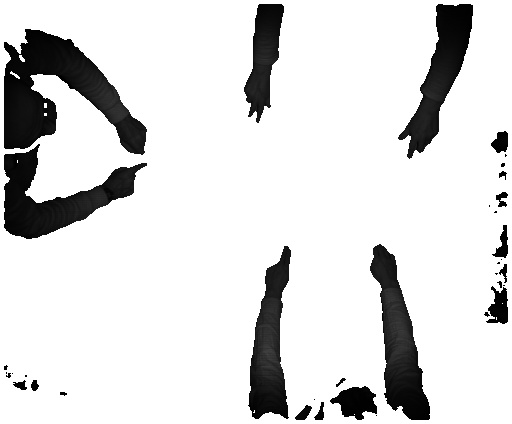fist: (120, 120, 151, 158)
hand: (392, 109, 445, 159), (110, 163, 151, 207), (240, 73, 271, 127), (264, 240, 295, 292), (368, 240, 400, 289)
